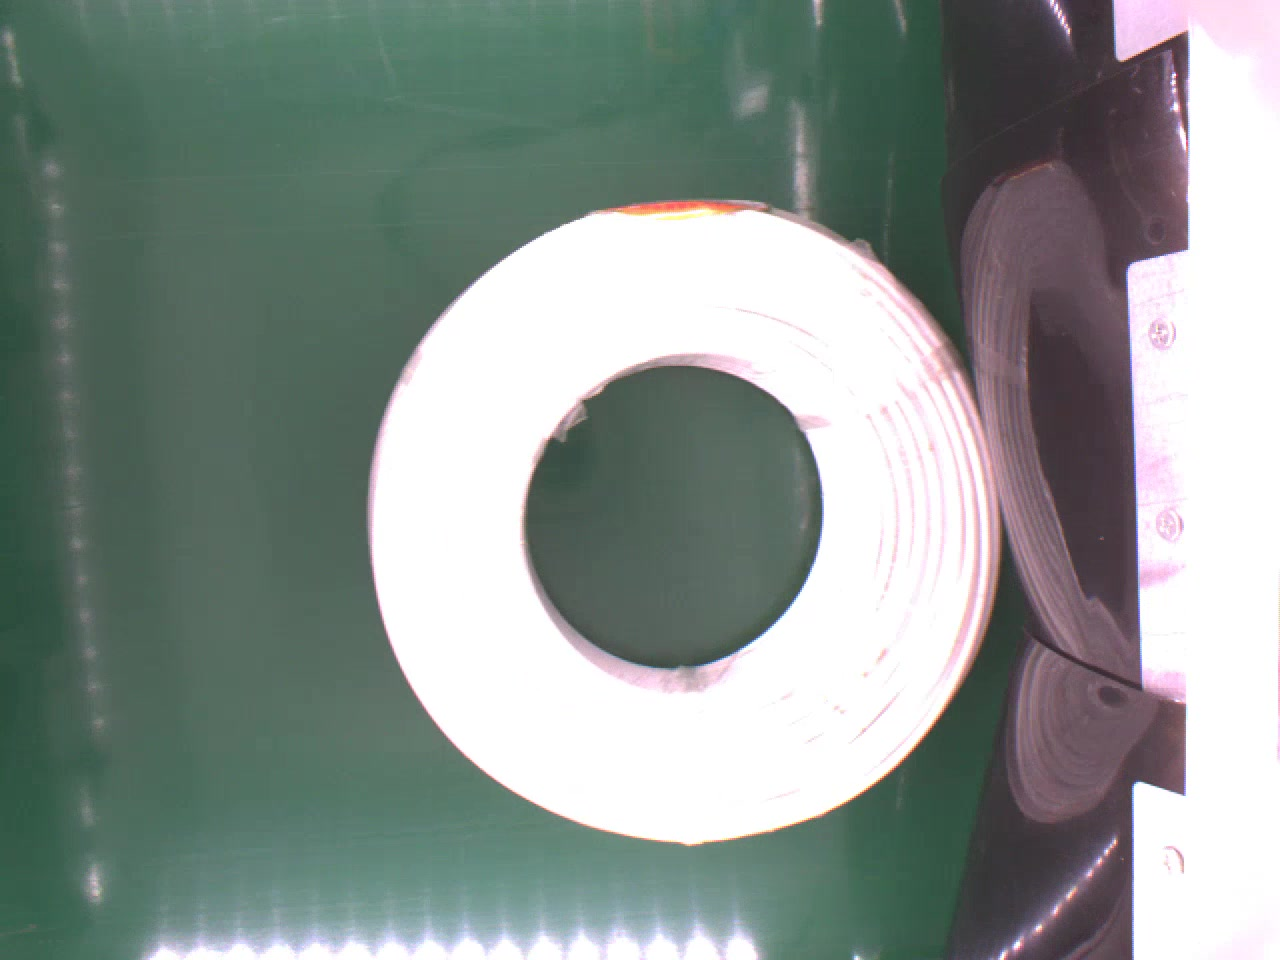white: (366, 194, 1001, 846)
